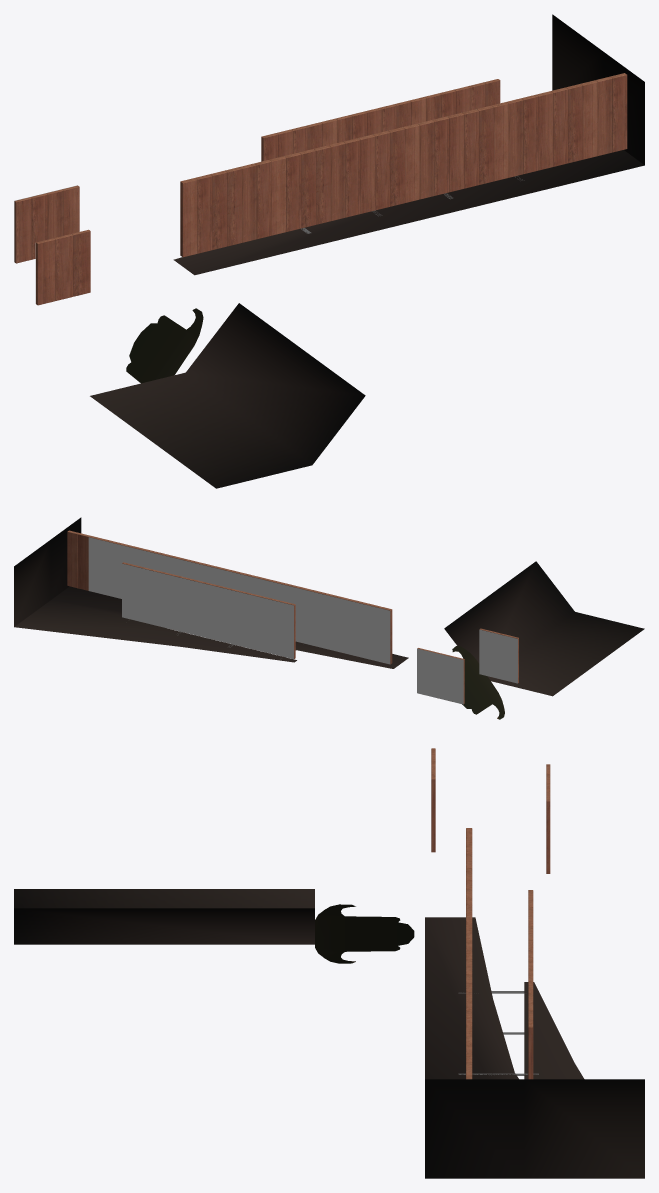
The model's file is stc_ring_s_set.dae.
3 views of the same model, one above another, from view 1: azimuth 30°, elevation 25°; view 2: azimuth 150°, elevation 25°; view 3: azimuth 270°, elevation 25° (orthographic). The views are drawn at different scales.
Visible parts, largest first — view 1: wall_kageotosuShape2, Ring_R_sShape (×2), Ring_R_sShape1 (×2), wall_kageotosuShape, Ring_L_sShape; view 2: wall_kageotosuShape2, wall_kageotosuShape, inkMesh1Shape, inkMesh2Shape, inkMesh3Shape, inkMesh4Shape, Ring_R_sShape1 (×2), Ring_R_sShape; view 3: wall_kageotosuShape, wall_kageotosuShape2, Ring_R_sShape, Ring_R_sShape1, Ring_L_sShape.
Part boxes in pixels (x1,y1,x2,y2): wall_kageotosuShape2: (90, 303, 365, 488); Ring_R_sShape (×2): (180, 97, 449, 257); Ring_R_sShape1 (×2): (425, 73, 627, 192); wall_kageotosuShape: (173, 14, 644, 275); Ring_L_sShape: (14, 187, 90, 305); wall_kageotosuShape2: (444, 561, 644, 719); wall_kageotosuShape: (14, 517, 408, 668); inkMesh1Shape: (88, 537, 390, 664); inkMesh2Shape: (122, 563, 293, 659); inkMesh3Shape: (417, 648, 463, 704); inkMesh4Shape: (479, 629, 517, 683); Ring_R_sShape1 (×2): (67, 530, 197, 590); Ring_R_sShape: (176, 562, 391, 610); wall_kageotosuShape: (425, 917, 644, 1178); wall_kageotosuShape2: (14, 889, 414, 963); Ring_R_sShape: (466, 828, 533, 984); Ring_R_sShape1: (466, 982, 533, 1079); Ring_L_sShape: (431, 779, 550, 873).
Bounding box in the file's own units: 340 × 259 × 90.53.
